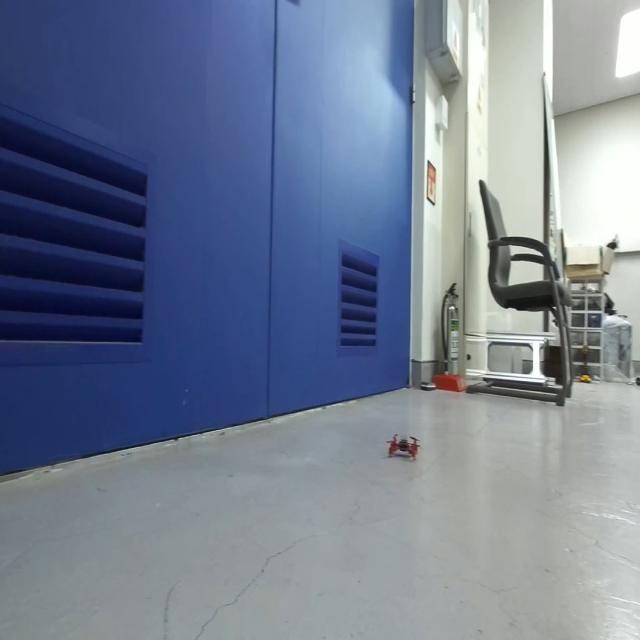crazyflie: (385, 428, 422, 466)
